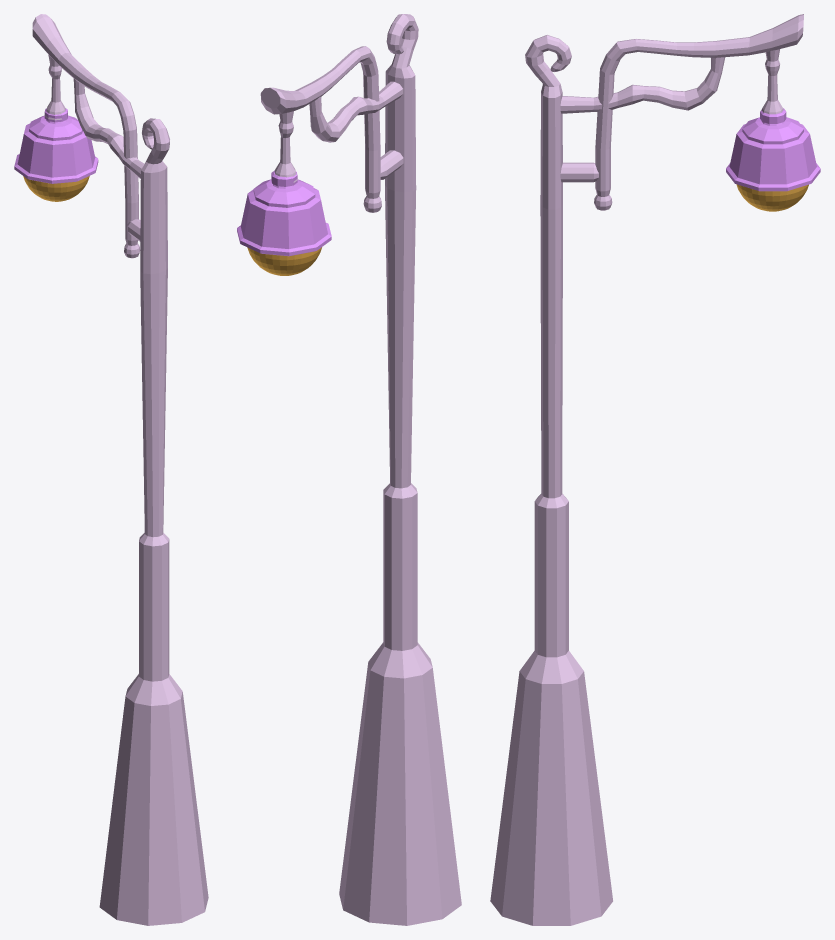
File: lampadaire 1.fbx
3 views of the same model, side by side, from view 1: azimuth 30°, elevation 25°; view 2: azimuth 150°, elevation 25°; view 3: azimuth 270°, elevation 25° (orthographic). The views are drawn at different scales.
Parts seen in each view (by area): view 1: Circle.001; view 2: Circle.001; view 3: Circle.001.
Boxes of the visible parts, x1,y1,x2,y2 form: Circle.001: (14, 14, 208, 925); Circle.001: (237, 14, 461, 925); Circle.001: (490, 14, 820, 925).
Size of the model in its own units: 106 by 888 by 300.
Materials: 2 (1 with a texture image).
